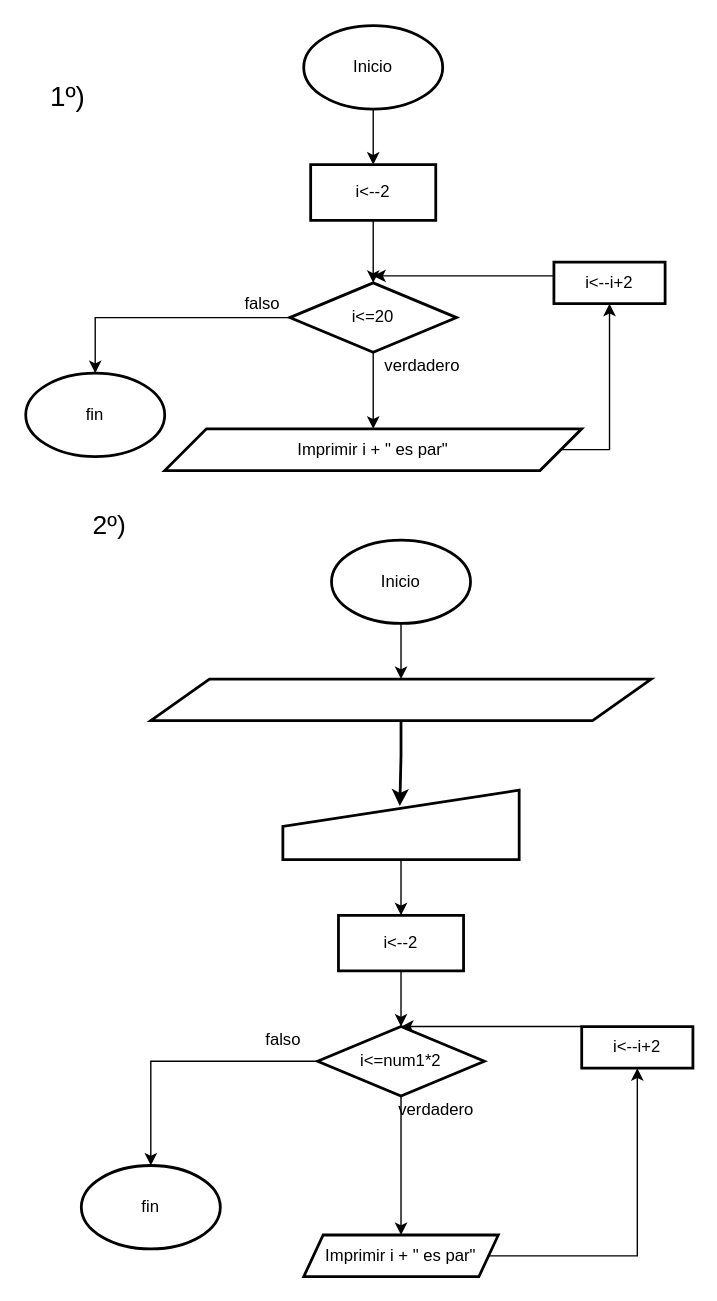
The diagram is 717 pixels wide and 1301 high, and some of its shapes have lost their labels. The shapes that lost their labels are listed below. From the top down, each one's centre as x and y in pixels, then its label:
pixel 400 699: Imprimir ("Introduzca el numero de pares que quiere")
pixel 400 824: Leer num1
